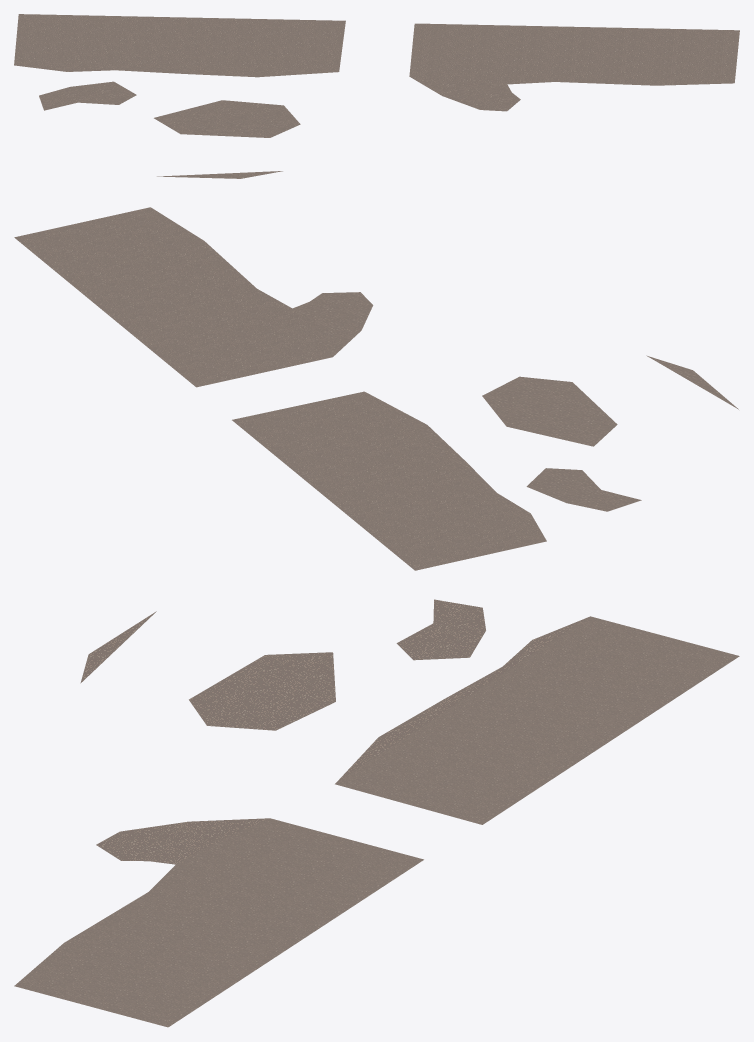
The model's file is kd_stage_1364a3_7_17_bounded.glb.
The picture shows the model from 3 angles, top to bottom: view 1: azimuth 30°, elevation 25°; view 2: azimuth 150°, elevation 25°; view 3: azimuth 270°, elevation 25°; orthographic projection. The views are drawn at different scales.
Parts seen in each view (by area): view 1: kd_stage_1364a3_7_17_bounded; view 2: kd_stage_1364a3_7_17_bounded; view 3: kd_stage_1364a3_7_17_bounded.
Part boxes in pixels (box(x1,y1,x2,y2)): kd_stage_1364a3_7_17_bounded: box(14, 14, 739, 178); kd_stage_1364a3_7_17_bounded: box(14, 207, 738, 570); kd_stage_1364a3_7_17_bounded: box(14, 599, 739, 1027).
Size of the model in its own units: 31.82 by 1.34e-05 by 22.81.
1 material, 1 textured.
